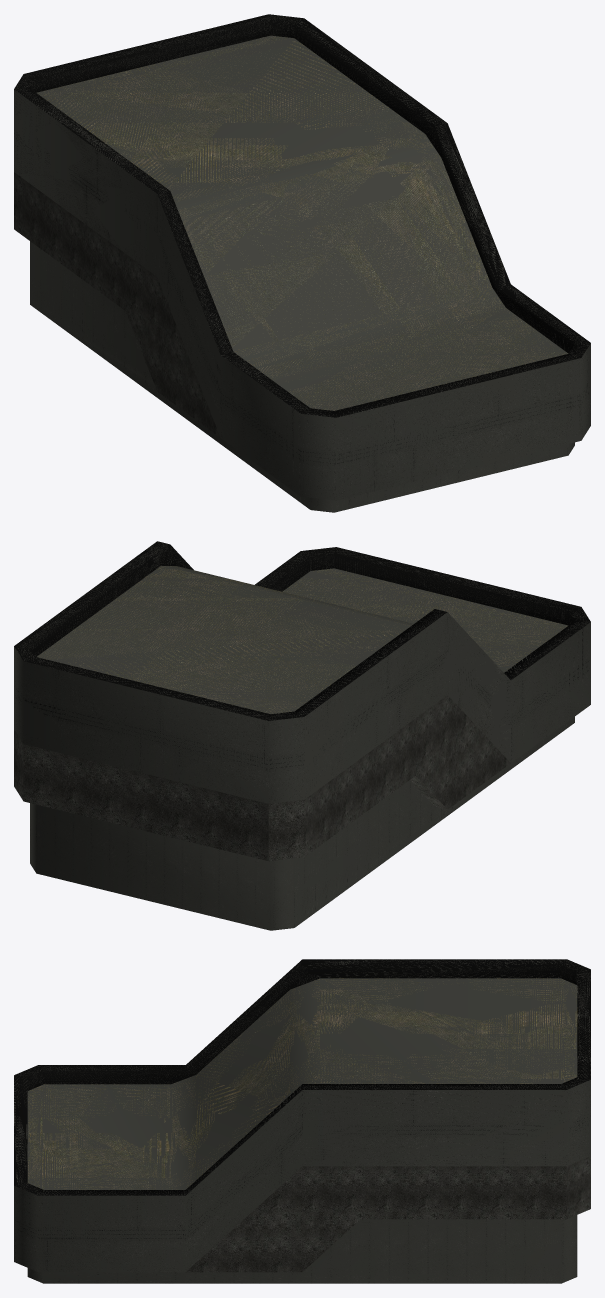
File: CityPlanter_235.fbx
The picture shows the model from 3 angles, top to bottom: view 1: azimuth 30°, elevation 25°; view 2: azimuth 150°, elevation 25°; view 3: azimuth 270°, elevation 25°; orthographic projection. The views are drawn at different scales.
Parts seen in each view (by area): view 1: 7_0004-ID64, 7_0003-ID49, 7_0009-ID64, 7_0005-ID3, 7_0008-ID49, 7_0001-ID24, 7_0002-ID34, 7_0000-ID3, 7_0007-ID34; view 2: 7_0003-ID49, 7_0004-ID64, 7_0001-ID24, 7_0002-ID34, 7_0005-ID3, 7_0008-ID49, 7_0009-ID64, 7_0007-ID34, 7_0000-ID3; view 3: 7_0004-ID64, 7_0003-ID49, 7_0001-ID24, 7_0009-ID64, 7_0002-ID34, 7_0005-ID3, 7_0008-ID49, 7_0007-ID34, 7_0000-ID3.
Boxes of the visible parts, <box> form: 7_0004-ID64: <box>36,35,568,410</box>; 7_0003-ID49: <box>14,89,590,500</box>; 7_0009-ID64: <box>38,36,567,410</box>; 7_0005-ID3: <box>14,14,590,417</box>; 7_0008-ID49: <box>14,90,590,499</box>; 7_0001-ID24: <box>14,172,220,437</box>; 7_0002-ID34: <box>30,241,574,512</box>; 7_0000-ID3: <box>14,14,588,417</box>; 7_0007-ID34: <box>30,242,573,511</box>; 7_0003-ID49: <box>14,612,590,803</box>; 7_0004-ID64: <box>37,565,568,714</box>; 7_0001-ID24: <box>14,695,510,861</box>; 7_0002-ID34: <box>30,717,574,930</box>; 7_0005-ID3: <box>14,541,590,720</box>; 7_0008-ID49: <box>14,613,590,803</box>; 7_0009-ID64: <box>40,566,567,713</box>; 7_0007-ID34: <box>30,718,574,929</box>; 7_0000-ID3: <box>17,541,588,720</box>; 7_0004-ID64: <box>27,978,577,1189</box>; 7_0003-ID49: <box>14,1080,590,1272</box>; 7_0001-ID24: <box>186,1156,590,1272</box>; 7_0009-ID64: <box>28,978,577,1189</box>; 7_0002-ID34: <box>27,1215,577,1283</box>; 7_0005-ID3: <box>14,959,590,1195</box>; 7_0008-ID49: <box>14,1083,590,1272</box>; 7_0007-ID34: <box>28,1217,577,1283</box>; 7_0000-ID3: <box>14,959,590,1195</box>.
Size of the model in its own units: 96.61 by 68.85 by 180.
10 materials, 10 textured.
